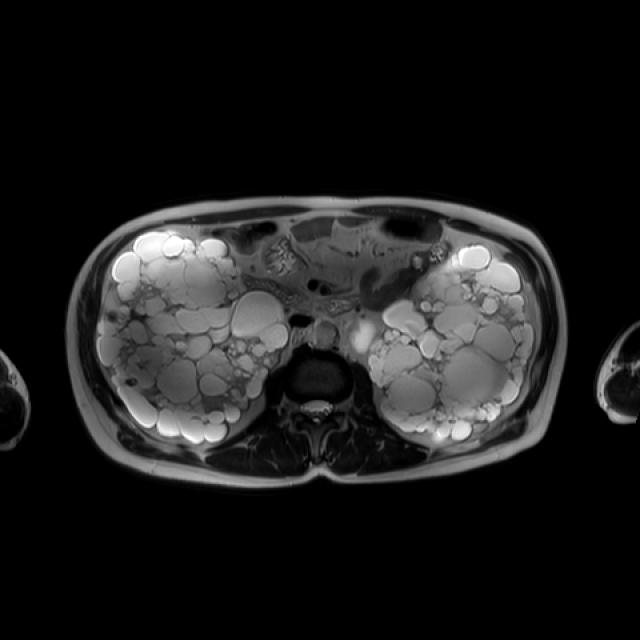sag: (97, 229, 290, 445)
sol: (349, 243, 535, 447)
